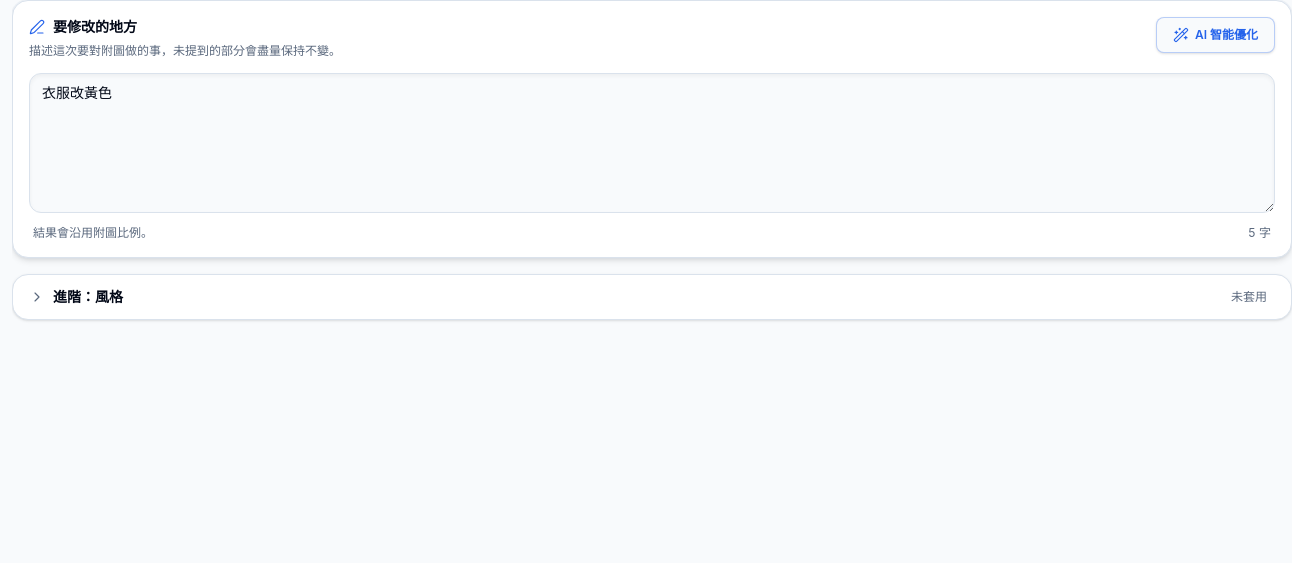
ScriptEditor attachment purposes › optimizes transform prompts in transform mode
The width and height of the screenshot is (1292, 563).
Click the button "AI 智能優化".
click(1215, 35)  # box [1156,17,1275,53]
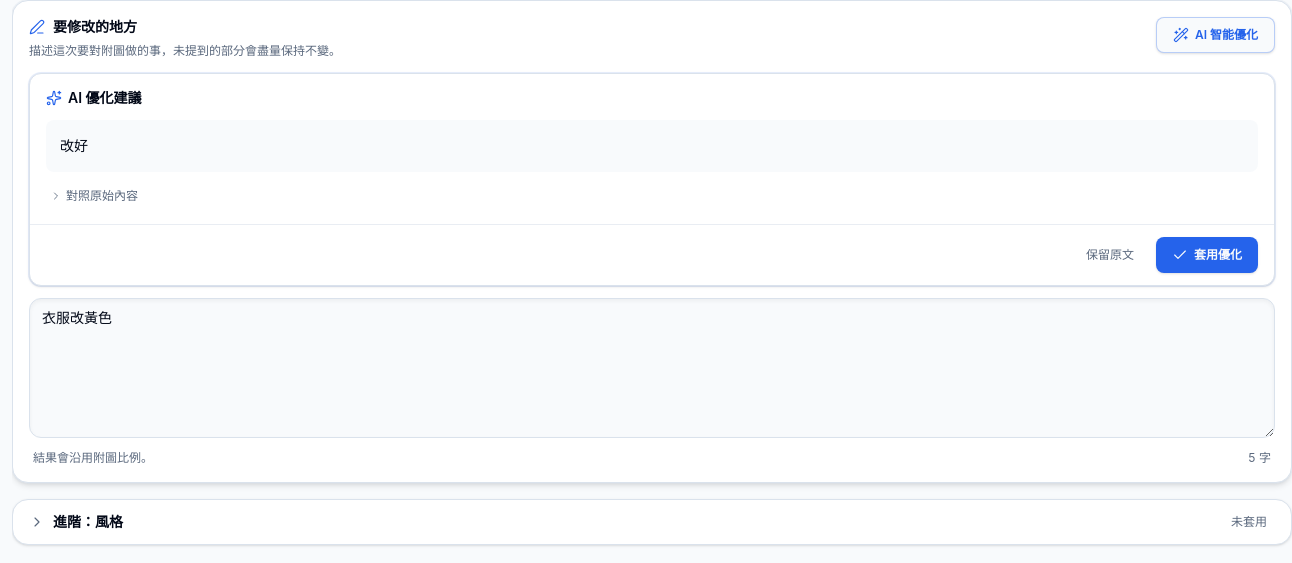
Now the text "改好" is shown, box [46,120,1258,172]
